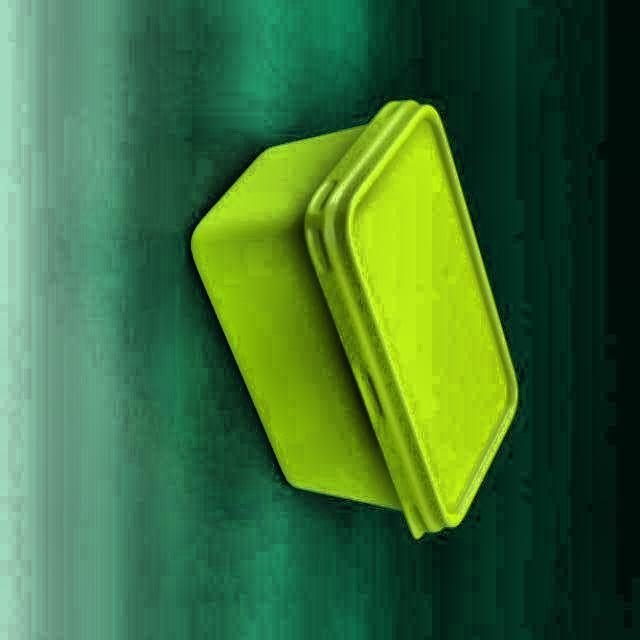plastic: (191, 101, 517, 538)
